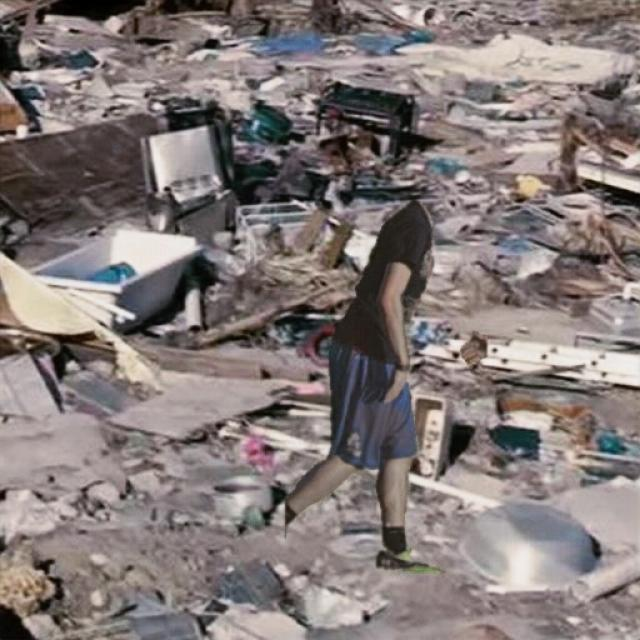Person in Rubble: (285, 200, 486, 571)
